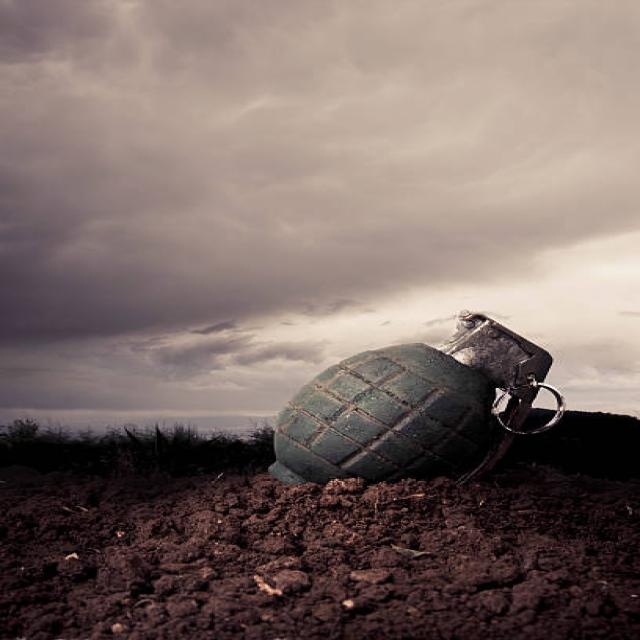grenade: (263, 298, 577, 510)
